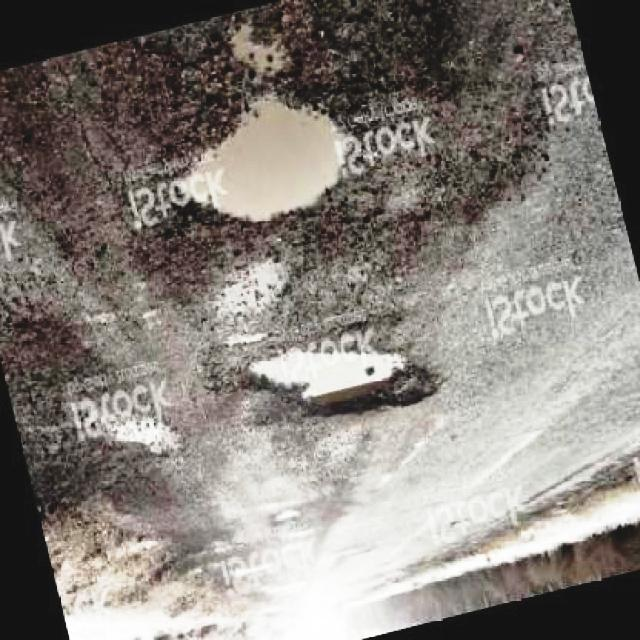pothole: (174, 86, 360, 223), (240, 338, 440, 409), (222, 17, 312, 86), (106, 414, 182, 455)
